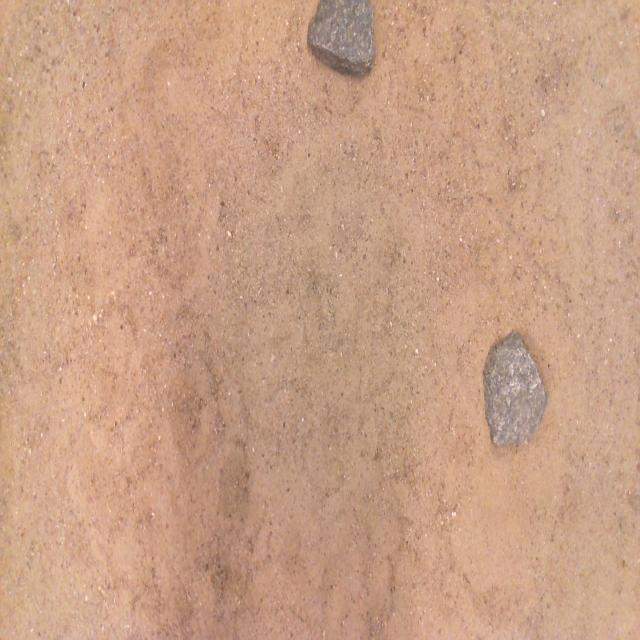rock: (483, 332, 546, 444), (308, 0, 375, 75)
